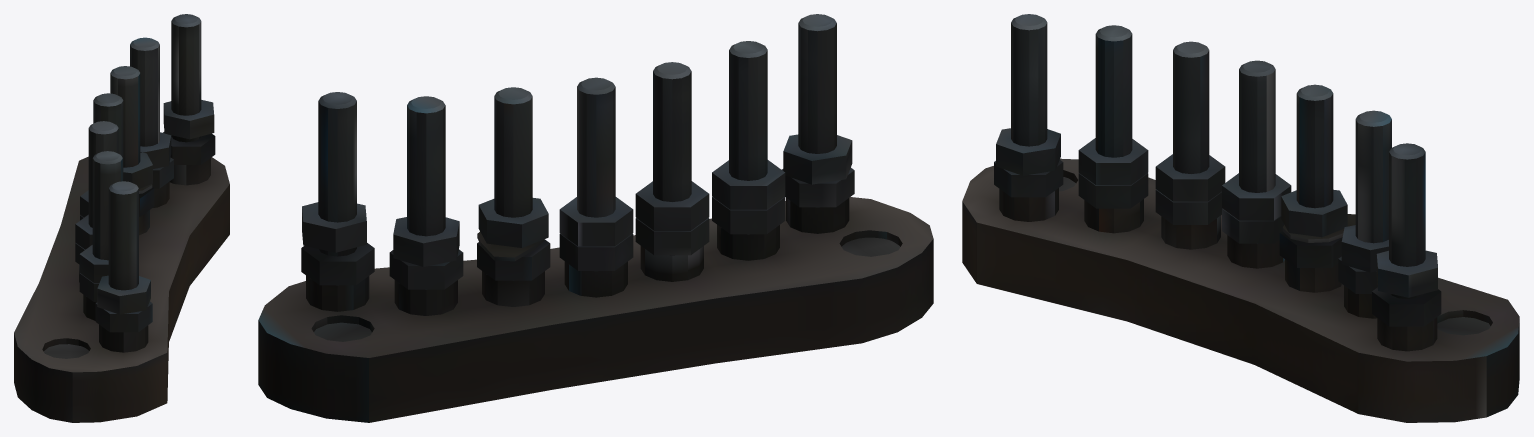
Rendered from pad_a.fbx.
3 renders of one model, left to right at view 1: azimuth 30°, elevation 25°; view 2: azimuth 150°, elevation 25°; view 3: azimuth 270°, elevation 25°, orthographic. The views are drawn at different scales.
Parts seen in each view (by area): view 1: pad_a; view 2: pad_a; view 3: pad_a.
Part boxes in pixels (box(x1,y1,x2,y2)): pad_a: box(14, 14, 229, 422); pad_a: box(258, 14, 933, 422); pad_a: box(962, 14, 1519, 422).
Size of the model in its own units: 0.0663 by 0.0381 by 0.0768.
